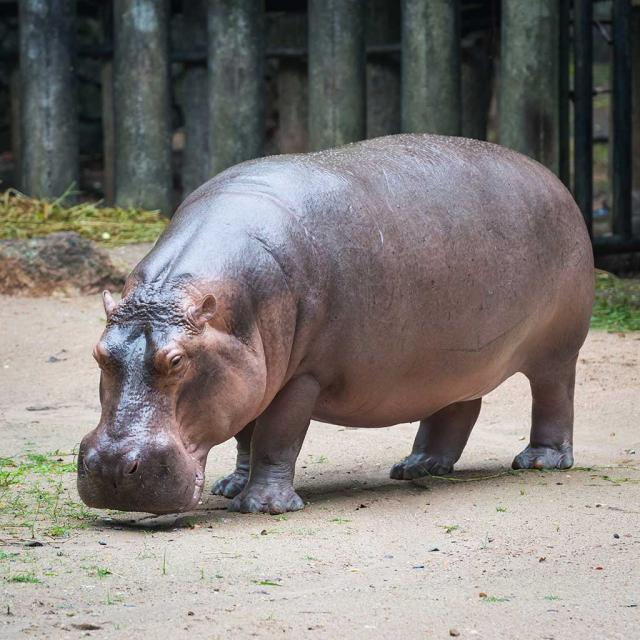Hippopotamus: (70, 133, 595, 508)
